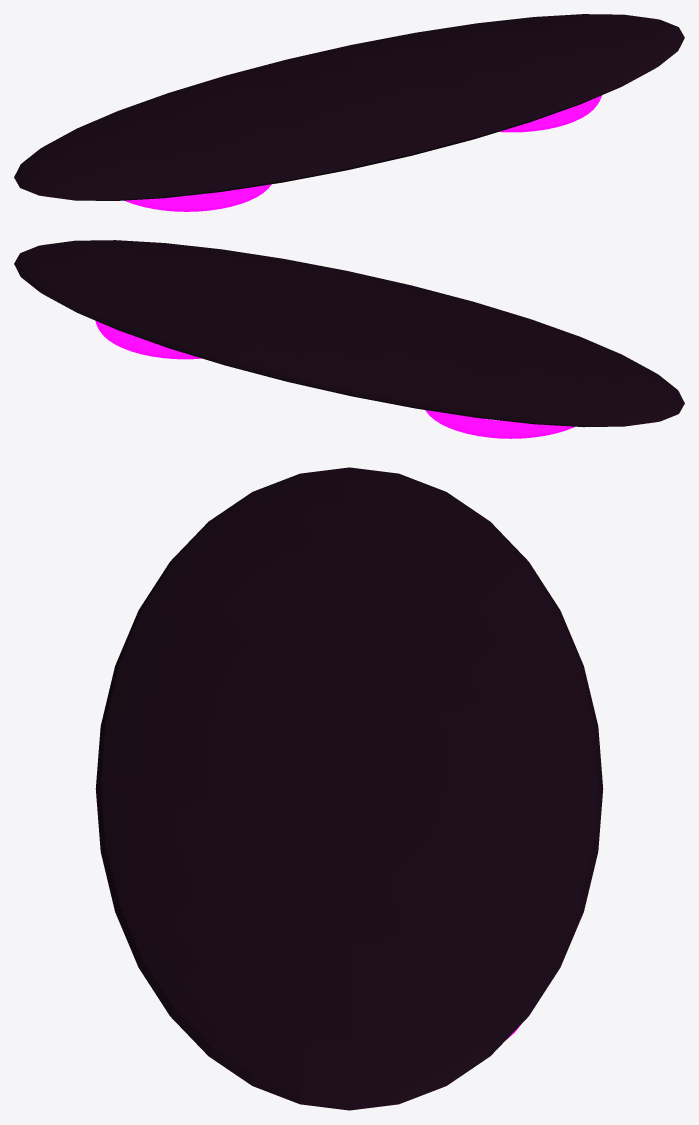
The model's file is tron_board.glb.
3 renders of one model, top to bottom at view 1: azimuth 30°, elevation 25°; view 2: azimuth 150°, elevation 25°; view 3: azimuth 270°, elevation 25°, orthographic. The views are drawn at different scales.
Parts seen in each view (by area): view 1: Sphere, Torus.004, Torus.003; view 2: Sphere, Torus.004, Torus.003; view 3: Sphere.
Part boxes in pixels (box(x1,y1,x2,y2)): Sphere: box(14, 14, 684, 200); Torus.004: box(124, 184, 271, 211); Torus.003: box(499, 95, 601, 132); Sphere: box(14, 240, 684, 427); Torus.004: box(425, 410, 574, 438); Torus.003: box(95, 321, 201, 359); Sphere: box(95, 467, 603, 1110).
Size of the model in its own units: 2.28 by 0.1978 by 0.76.
